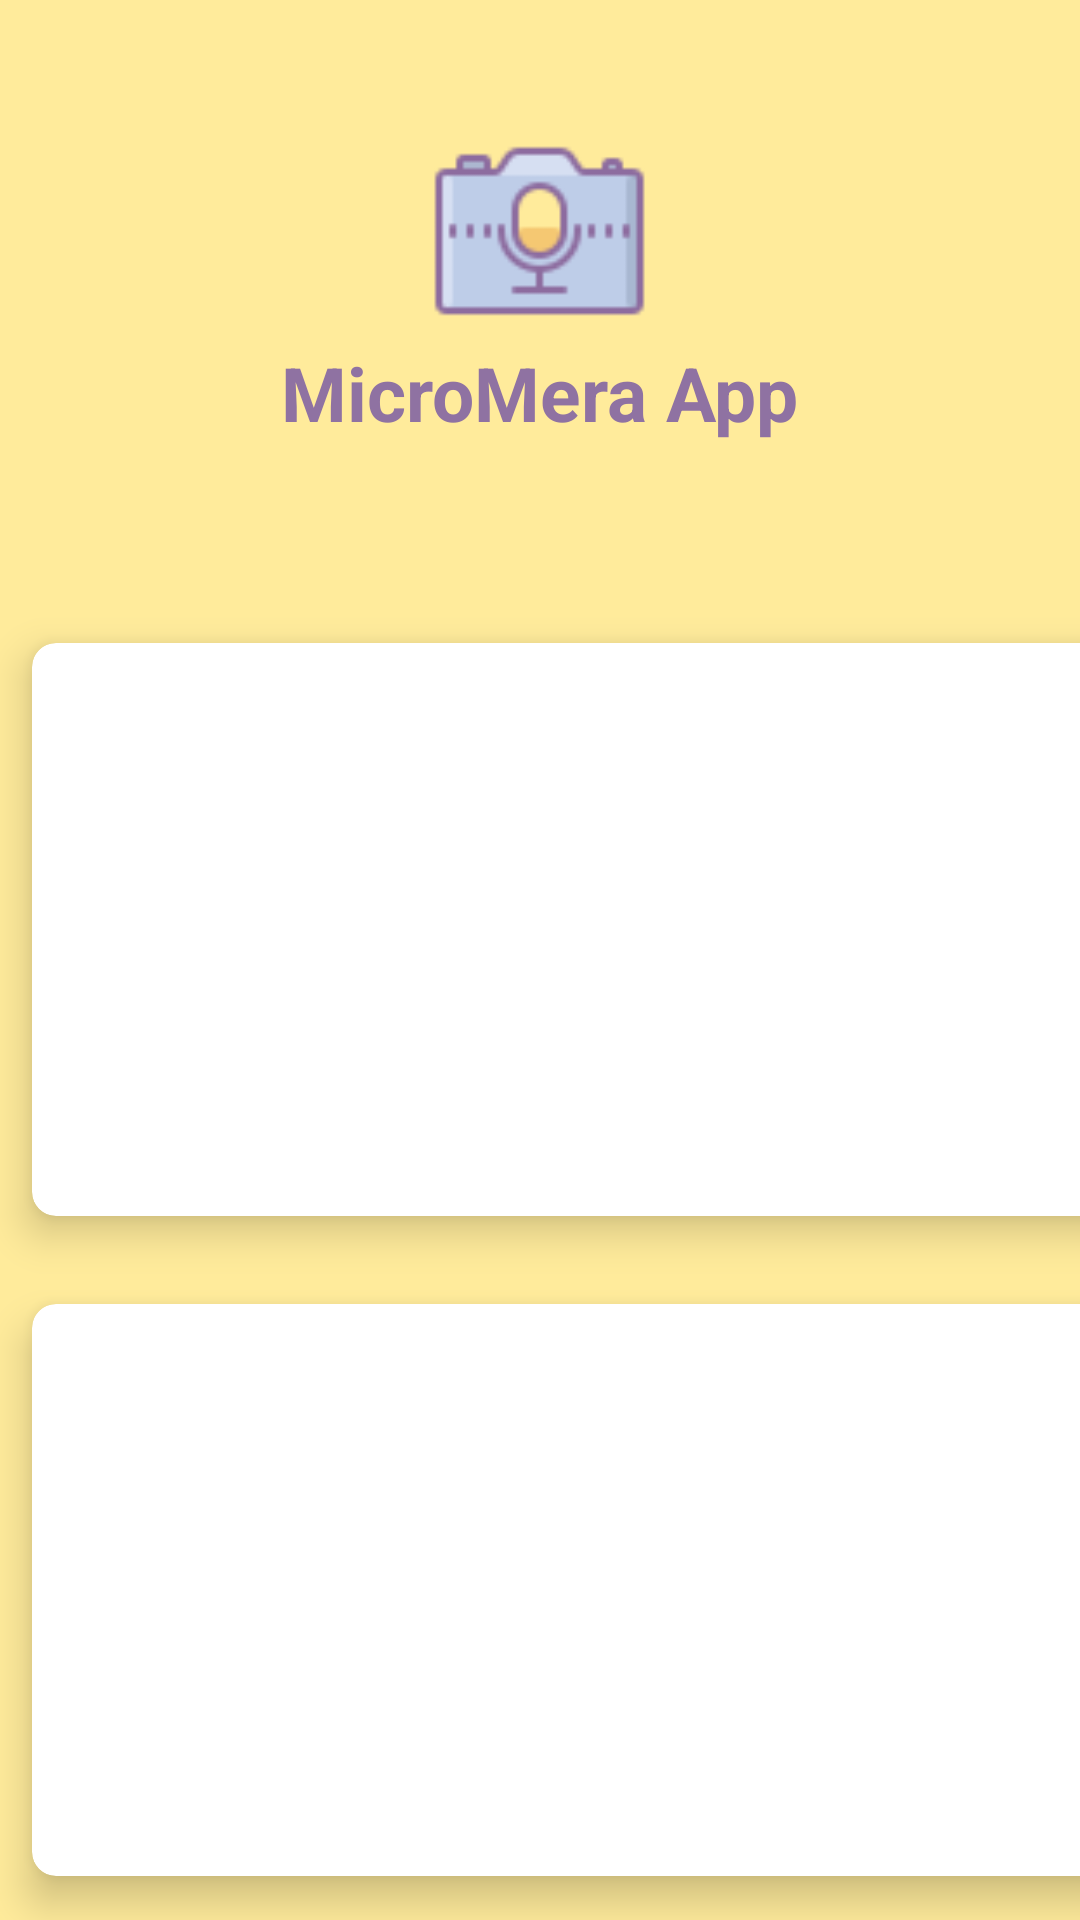

Icon click points for this 1080*1920 phone screenshot, format (x,y):
camera mic: (539,231)
